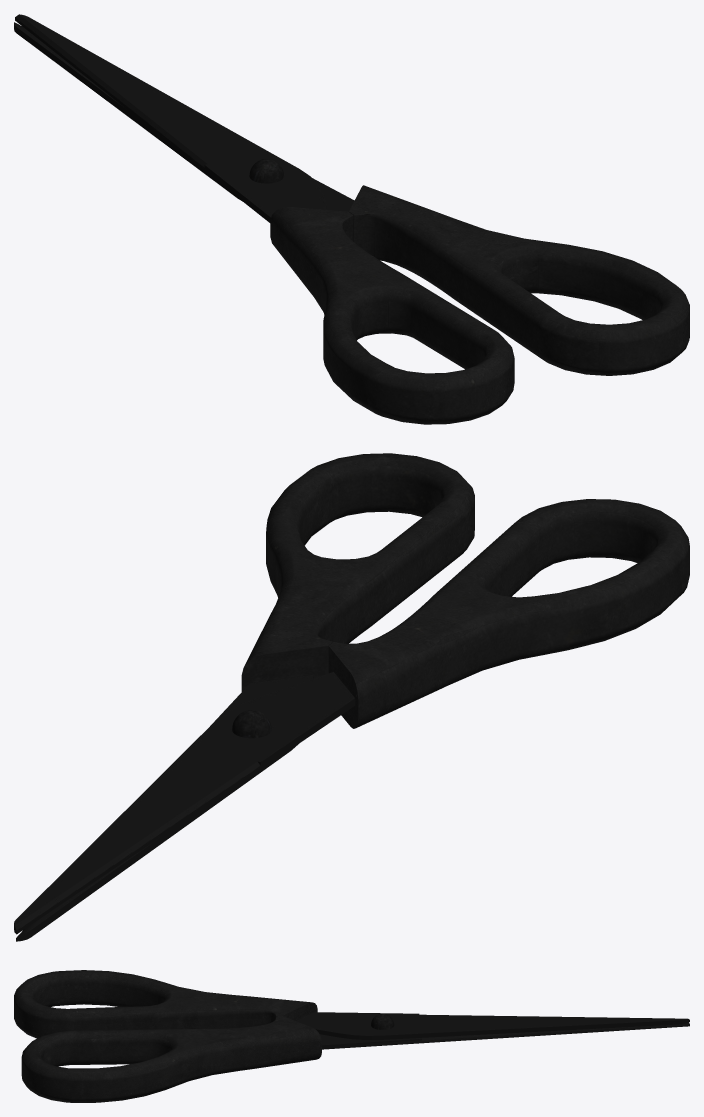
File: scissor-model.glb
3 renders of one model, top to bottom at view 1: azimuth 30°, elevation 25°; view 2: azimuth 150°, elevation 25°; view 3: azimuth 270°, elevation 25°, orthographic. The views are drawn at different scales.
Visible parts, largest first — view 1: Object_2; view 2: Object_2; view 3: Object_2.
Boxes of the visible parts, box(x1,y1,x2,y2) form: Object_2: box(14, 14, 689, 424); Object_2: box(14, 453, 689, 941); Object_2: box(14, 970, 689, 1102).
Bounding box in the file's own units: 4.26 × 0.5906 × 11.4.
1 material, 1 textured.
